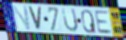7: (47, 7, 60, 33)
E: (94, 10, 113, 35)
N: (12, 5, 32, 31)
Q: (81, 9, 98, 35)
U: (61, 7, 79, 33)
V: (27, 6, 43, 32)
